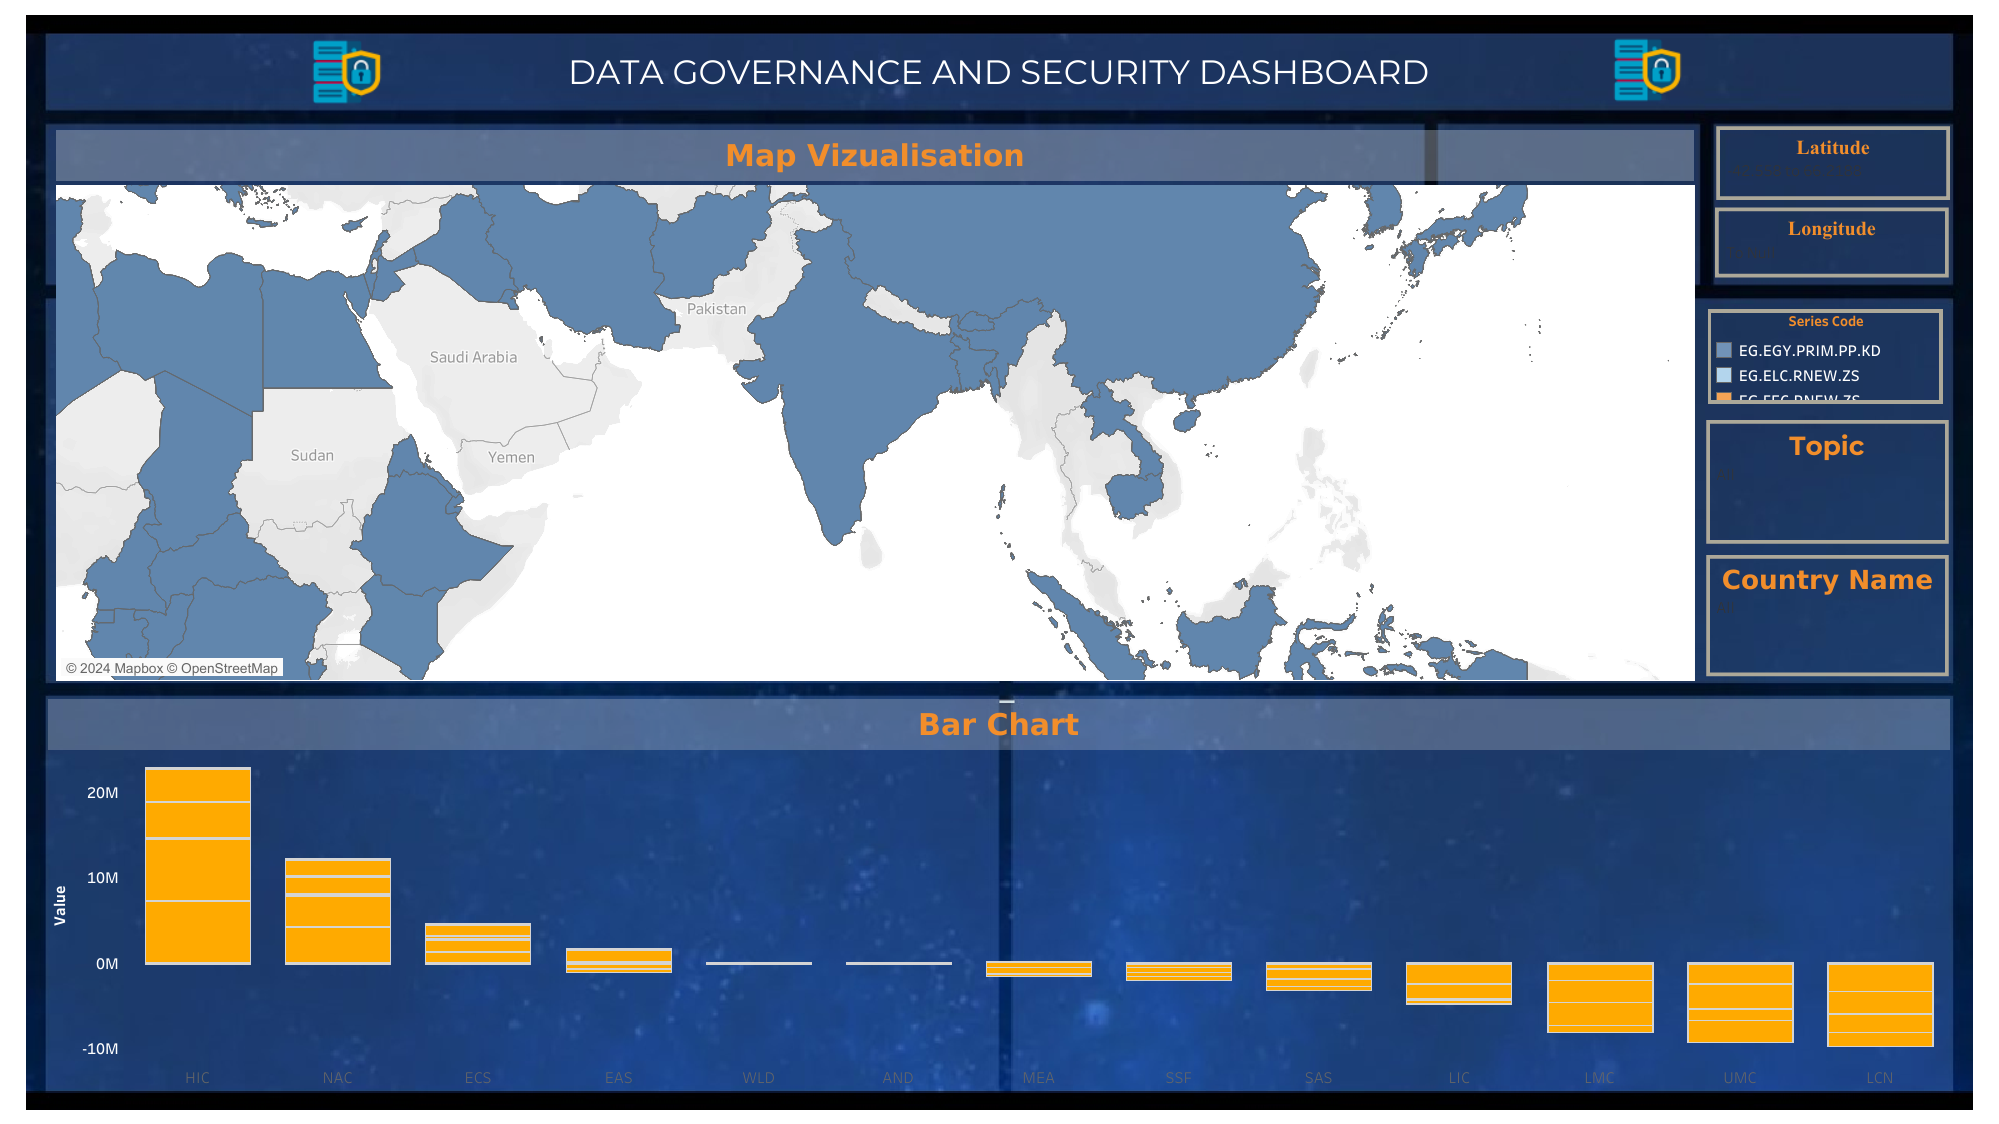

This screenshot's page, from the dashboard's own definition file:
{"tool":"tableau","page":{"name":"Dashboard 1","canvas":[1600,900],"ordinal":0},"visuals":[{"type":"image","param":"Image/Presentation2.jpg","box":[8,8,1584,884]},{"type":"image","param":"Image/4319183.png","box":[1288,26,237,60]},{"type":"text","box":[38,27,1522,60]},{"type":"image","param":"Image/4319183.png","box":[247,27,200,61]},{"type":"filter","title":"Map Vizualisation","param":"[federated.1mc1iii0ivy2a019xd4zg0gm2dhb].[Latitude (generated)]","box":[1373,101,187,59]},{"type":"worksheet","title":"Map Vizualisation","mark":"Multipolygon","box":[45,104,1310,440]},{"type":"filter","title":"Map Vizualisation","param":"[federated.1mc1iii0ivy2a019xd4zg0gm2dhb].[Longitude (generated)]","box":[1372,166,187,56]},{"type":"legend","title":"Map Vizualisation","param":"[federated.1mc1iii0ivy2a019xd4zg0gm2dhb].[none:Series Code:nk]","box":[1366,247,188,76]},{"type":"filter","title":"Map Vizualisation","param":"[federated.1mc1iii0ivy2a019xd4zg0gm2dhb].[none:Topic:nk]","box":[1365,336,194,99]},{"type":"filter","title":"Map Vizualisation","param":"[federated.1mc1iii0ivy2a019xd4zg0gm2dhb].[none:Country Name:nk]","box":[1365,444,194,97]},{"type":"worksheet","title":"Bar Chart","mark":"Bar","cols":["CountryCode"],"box":[38,559,1522,311]}]}

Visuals, with their boxes in screenshot pixels (x1, y1, x2, y2), scaled from the page's 1600x900 canvas onto the 1999x1124 screenshot:
image: (10, 10, 1989, 1114)
image: (1609, 32, 1905, 107)
text: (47, 34, 1949, 109)
image: (309, 34, 558, 110)
"Map Vizualisation" filter: (1715, 126, 1949, 200)
"Map Vizualisation" worksheet (Multipolygon marks): (56, 130, 1693, 679)
"Map Vizualisation" filter: (1714, 207, 1948, 277)
"Map Vizualisation" legend: (1707, 308, 1942, 403)
"Map Vizualisation" filter: (1705, 420, 1948, 543)
"Map Vizualisation" filter: (1705, 555, 1948, 676)
"Bar Chart" worksheet (Bar marks): (47, 698, 1949, 1087)
